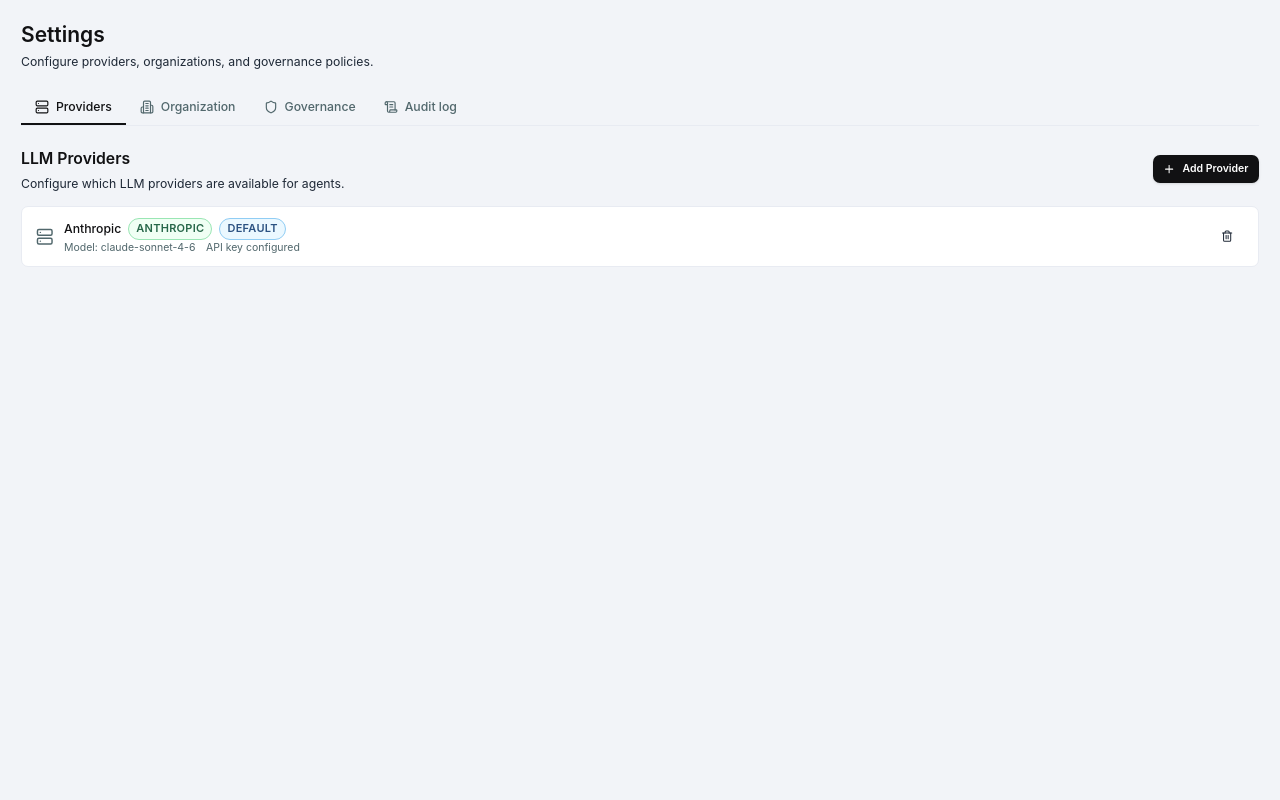
SettingsPage › rejects short initial passwords in the Add user modal without hitting the server
Step 1. Click the button "Organization" → coordinates (188, 108), box [126, 91, 250, 124]
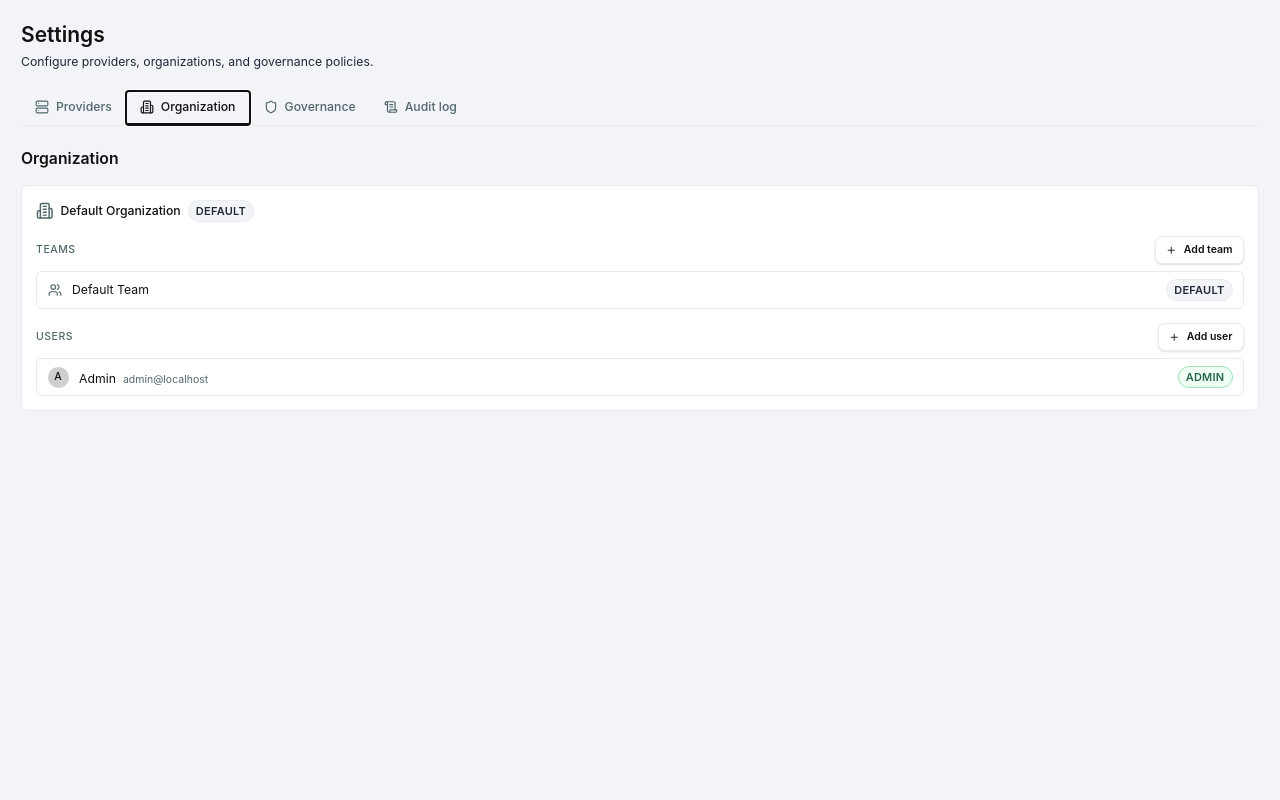
Now the text "Default Organization" is shown, box [60, 202, 181, 220]
Step 2. Click the button "Add user" → coordinates (1201, 337), box [1158, 323, 1244, 351]
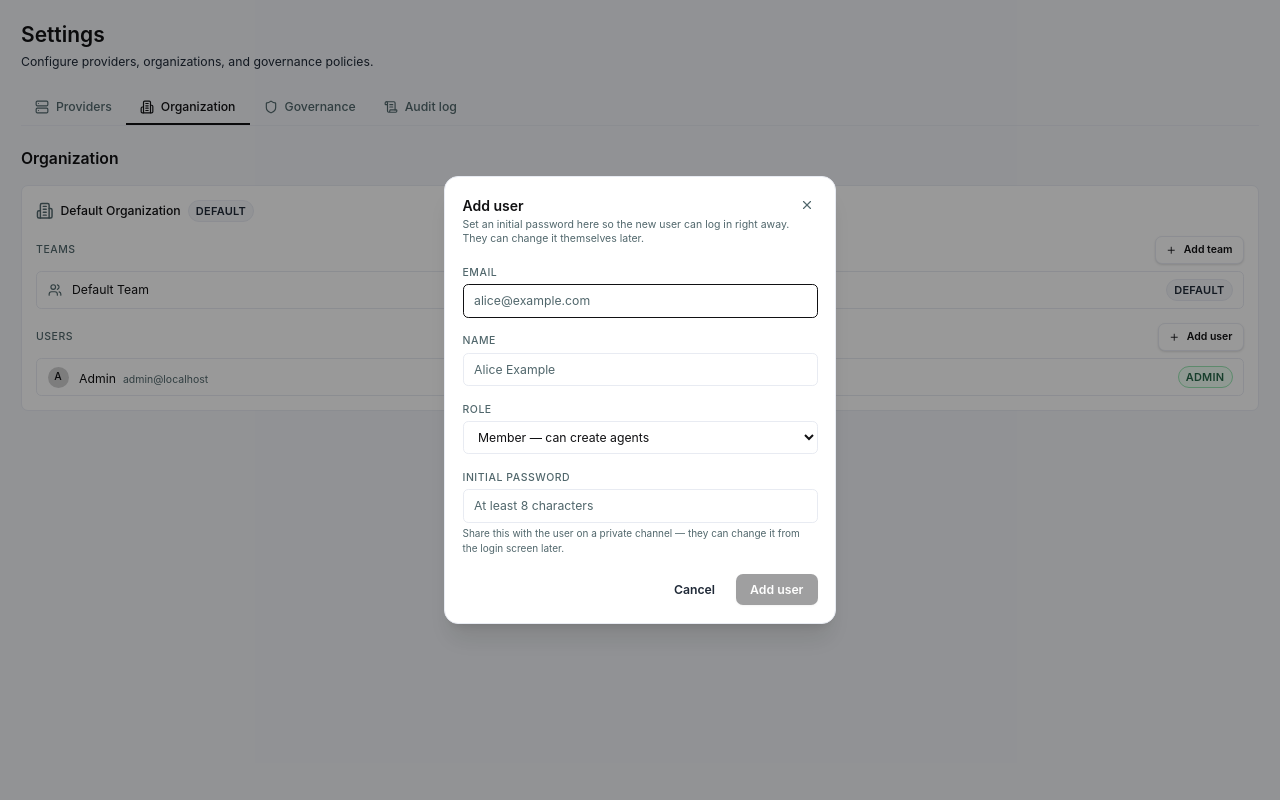
Step 3. Type "short@example.com" into the field with placeholder "alice@example.com" → coordinates (640, 301), box [462, 284, 818, 318]
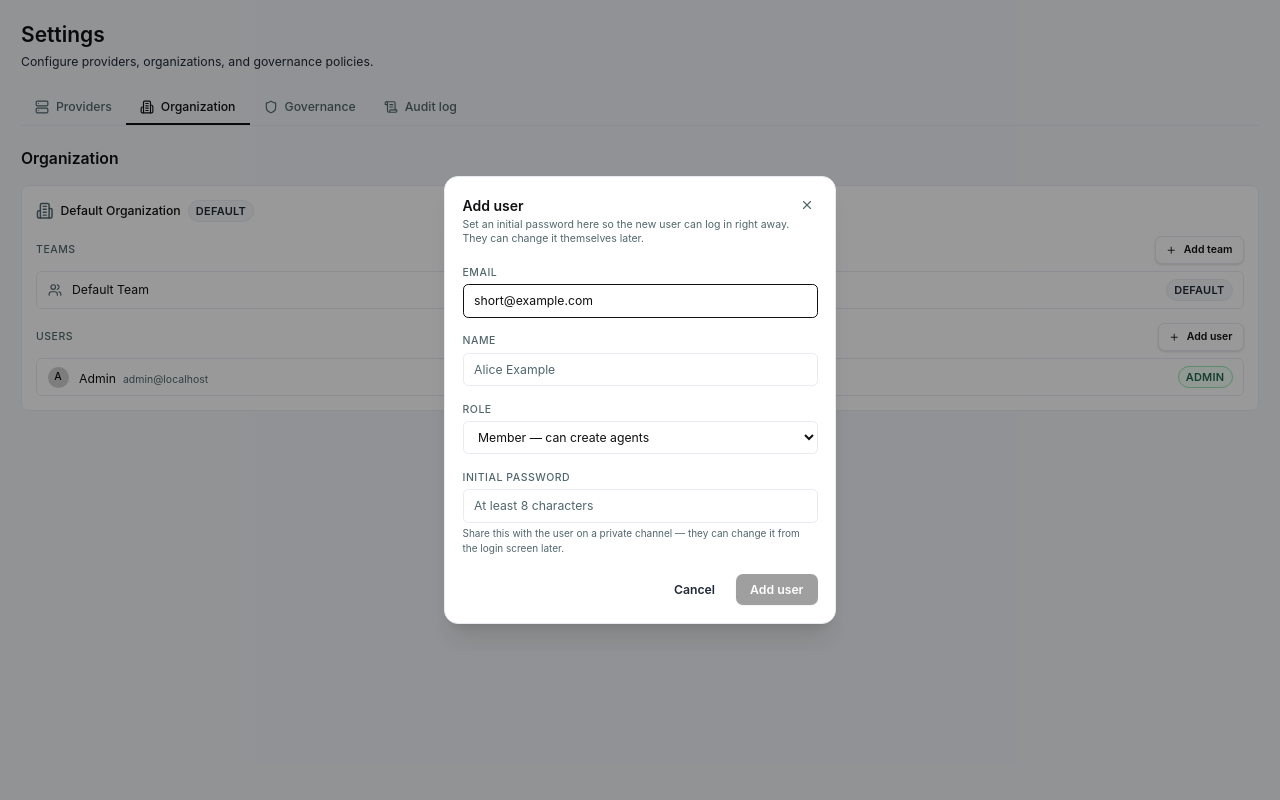
Step 4. Type "Short PW" into the field with placeholder "Alice Example" → coordinates (640, 369), box [462, 353, 818, 386]
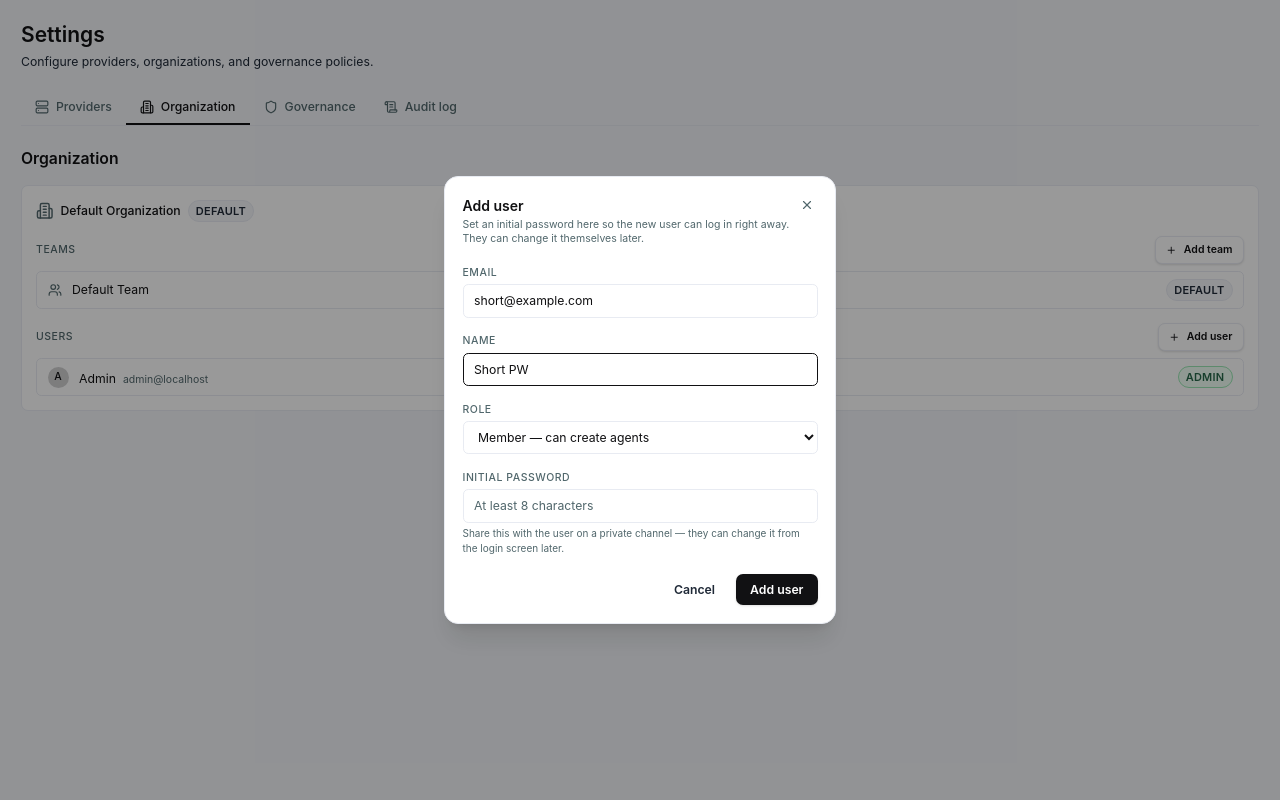
Step 5. Type "short" into the password field with placeholder "At least 8 characters" → coordinates (640, 506), box [462, 489, 818, 523]
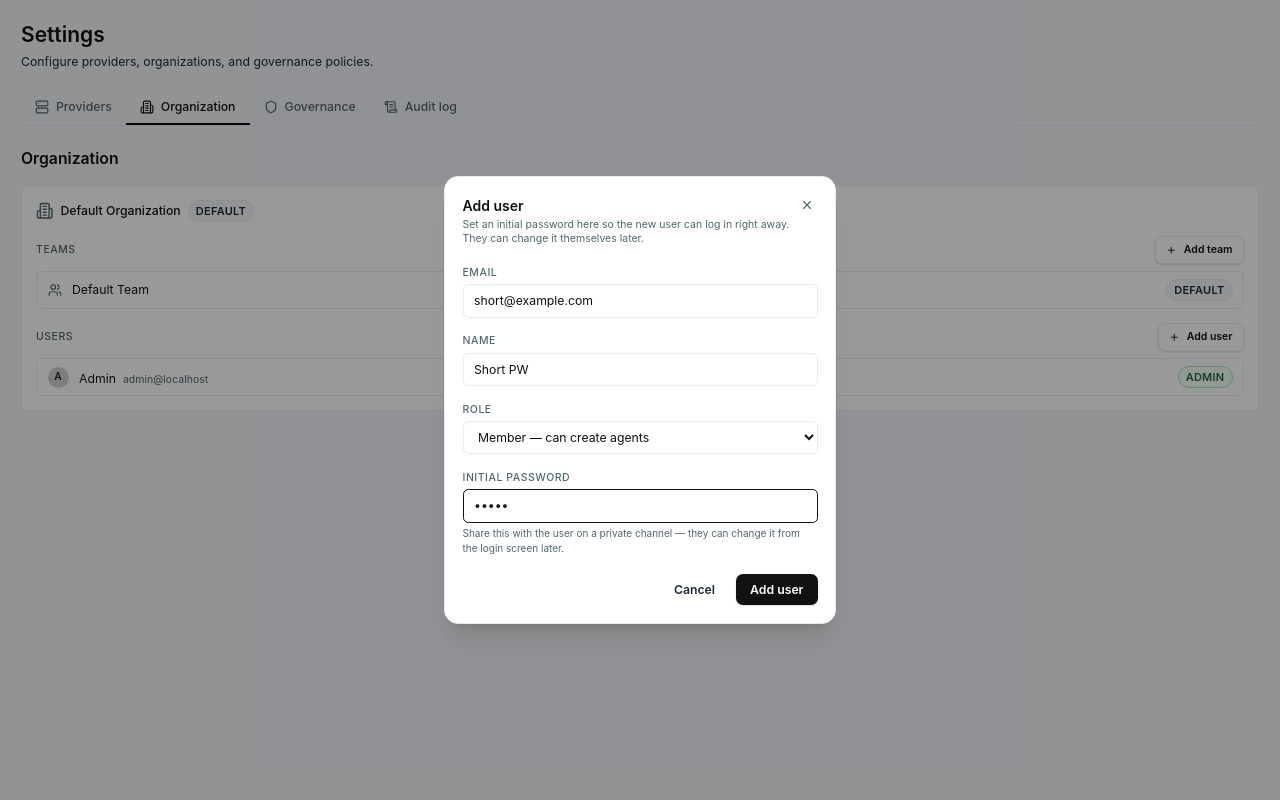
Step 6. Click the button "Add user" → coordinates (777, 589), box [736, 574, 818, 605]
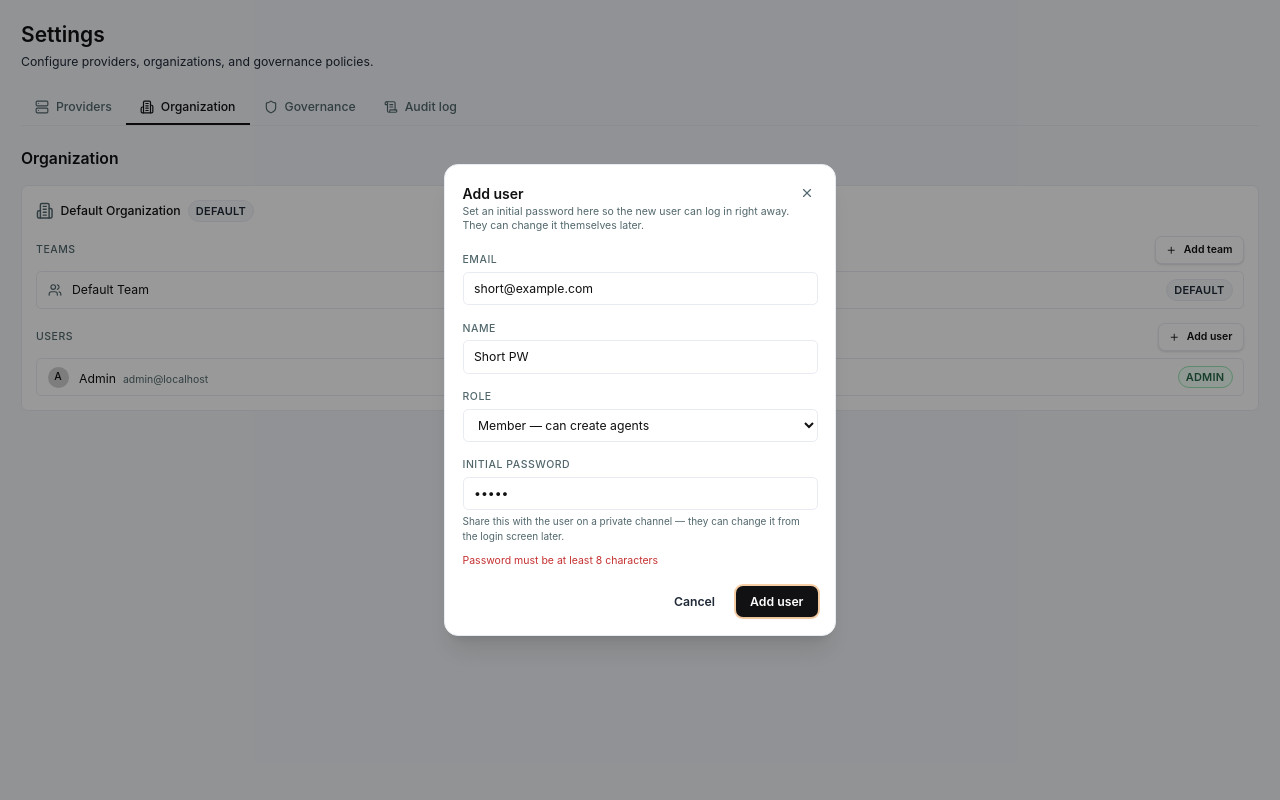
Now the text "Password must be at least 8 characters" is shown, box [462, 554, 658, 567]
